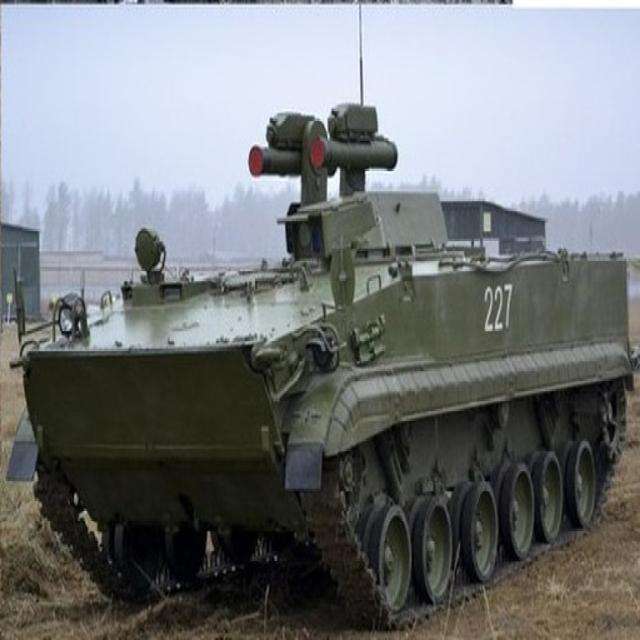APC-IFV: (5, 87, 634, 631)
